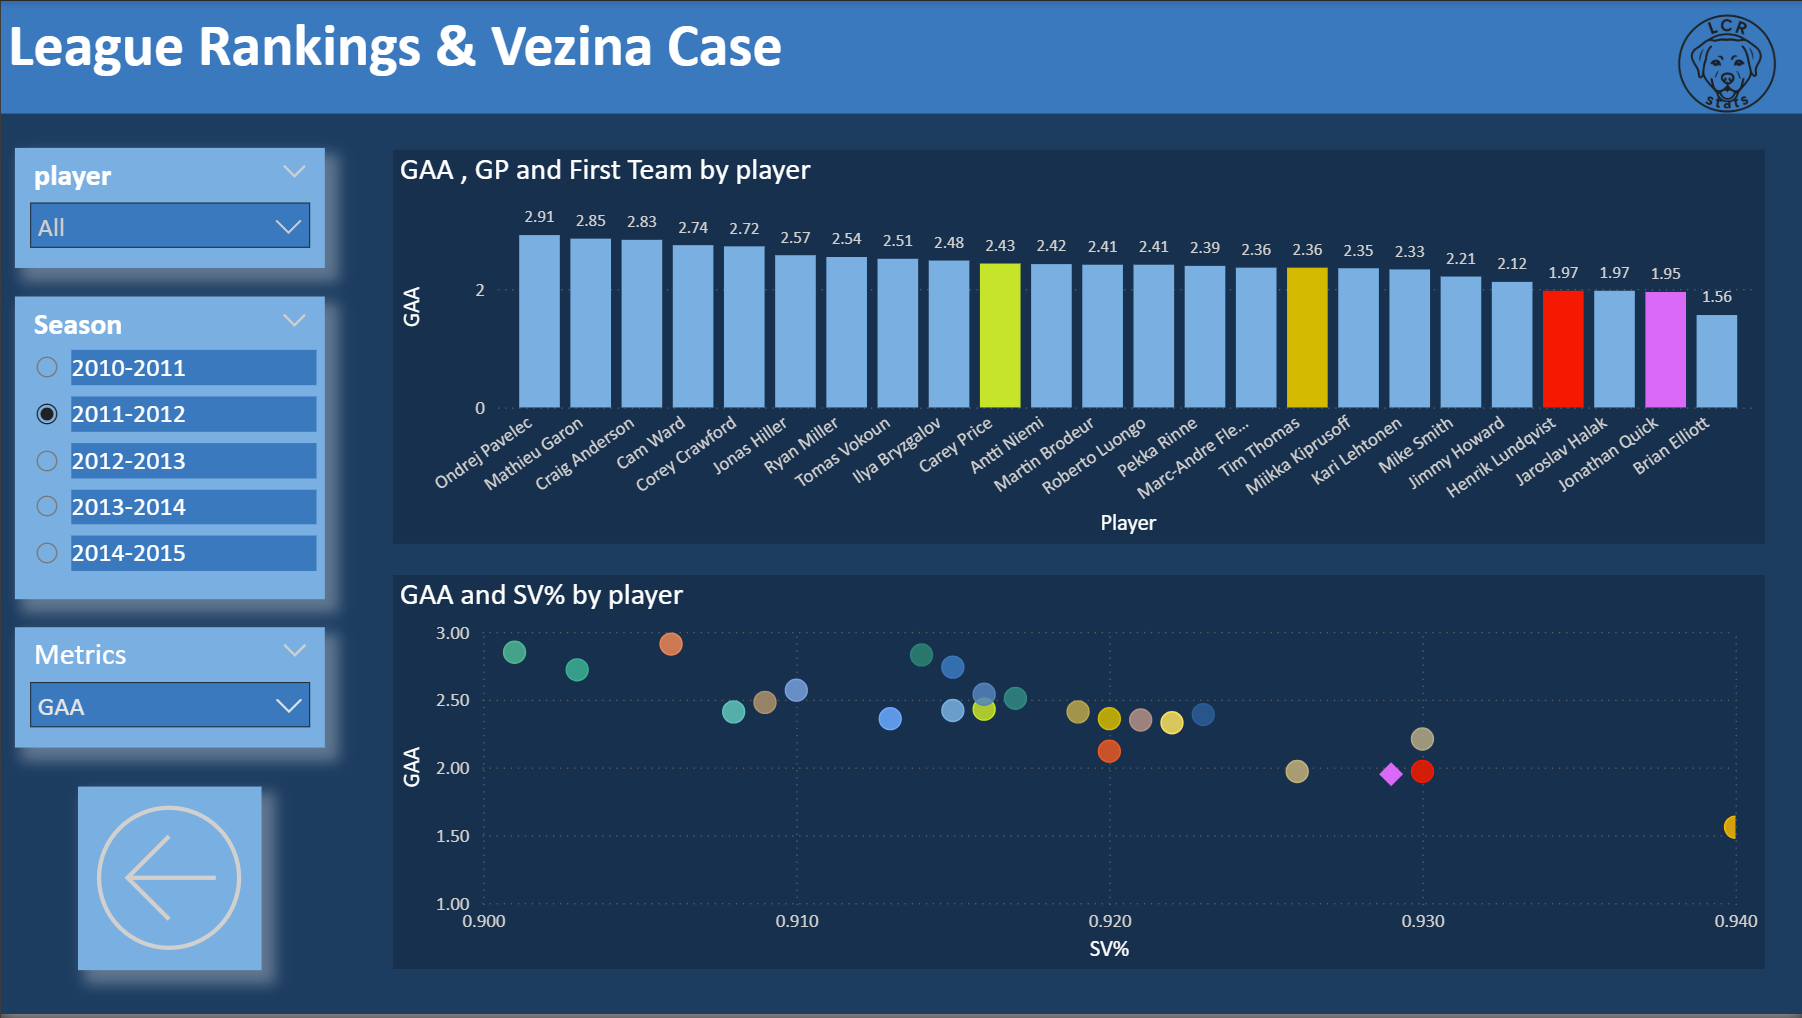

The page's visual inventory and layout, read from the dashboard file:
{"tool":"powerbi","page":{"name":"League Rankings & Vezina Case","canvas":[1280,720],"ordinal":2},"visuals":[{"type":"textbox","box":[0,0,1280,80],"z":0},{"type":"slicer","fields":{"Values":["nhl goalies 2010-2014.Season"]},"box":[10,210,220,215],"z":1000},{"type":"slicer","fields":{"Values":["nhl goalies 2010-2014.player"]},"box":[10,105,220,85],"z":2000},{"type":"actionButton","box":[55,558.3,130,130],"z":3000},{"type":"columnChart","fields":{"Y":["nhl goalies 2010-2014.GAA Measure"],"Category":["nhl goalies 2010-2014.player"]},"box":[278.1,106.1,975,280],"z":4000},{"type":"slicer","fields":{"Values":["Metrics.Metrics"]},"box":[9.6,445.3,220.3,85],"z":5000},{"type":"scatterChart","title":"GAA and SV% by player","fields":{"X":["Sum(nhl goalies 2010-2014.sv_pct)"],"Y":["Sum(nhl goalies 2010-2014.gaa)"],"Series":["nhl goalies 2010-2014.player"]},"box":[278.1,408.4,975,280],"z":6000},{"type":"image","box":[1174.7,0,105.3,90],"z":7000}]}

Visuals, with their boxes in screenshot pixels (x1, y1, x2, y2), scaled from the page's 1280x720 canvas onto the 1802x1018 screenshot:
textbox: (left=0, top=0, right=1801, bottom=113)
slicer - nhl goalies 2010-2014.Season: (left=14, top=297, right=324, bottom=601)
slicer - nhl goalies 2010-2014.player: (left=14, top=148, right=324, bottom=269)
actionButton: (left=77, top=789, right=260, bottom=973)
columnChart - nhl goalies 2010-2014.GAA Measure x nhl goalies 2010-2014.player: (left=392, top=150, right=1764, bottom=546)
slicer - Metrics.Metrics: (left=14, top=630, right=324, bottom=750)
"GAA and SV% by player" scatterChart: (left=392, top=577, right=1764, bottom=973)
image: (left=1654, top=0, right=1801, bottom=127)
